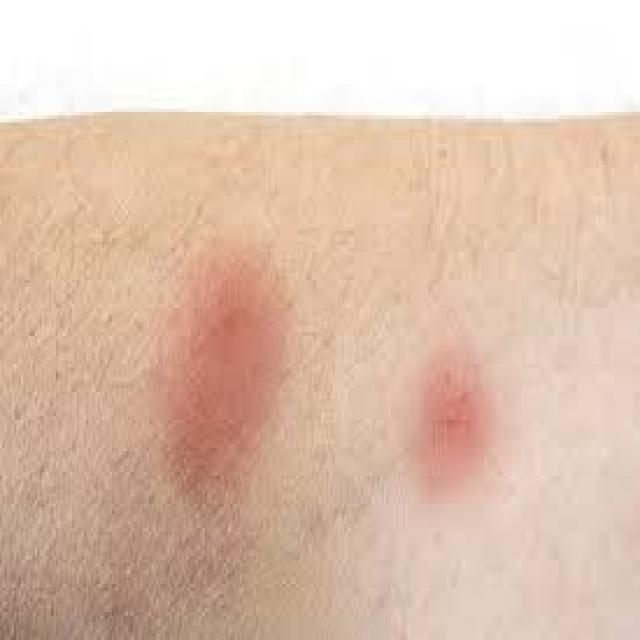kan emici bocekler: (171, 258, 294, 478), (403, 359, 492, 474)
